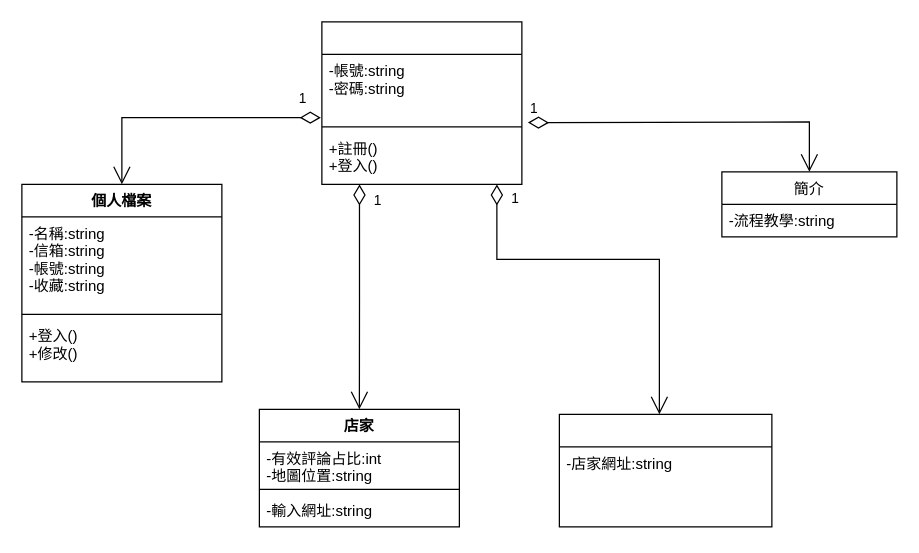
Image size: 919x553. Some labels were removed from this diagram. Each missing label, with the box of its shape:
搜尋紀錄: (558, 413, 772, 527)
會員: (321, 21, 522, 184)
